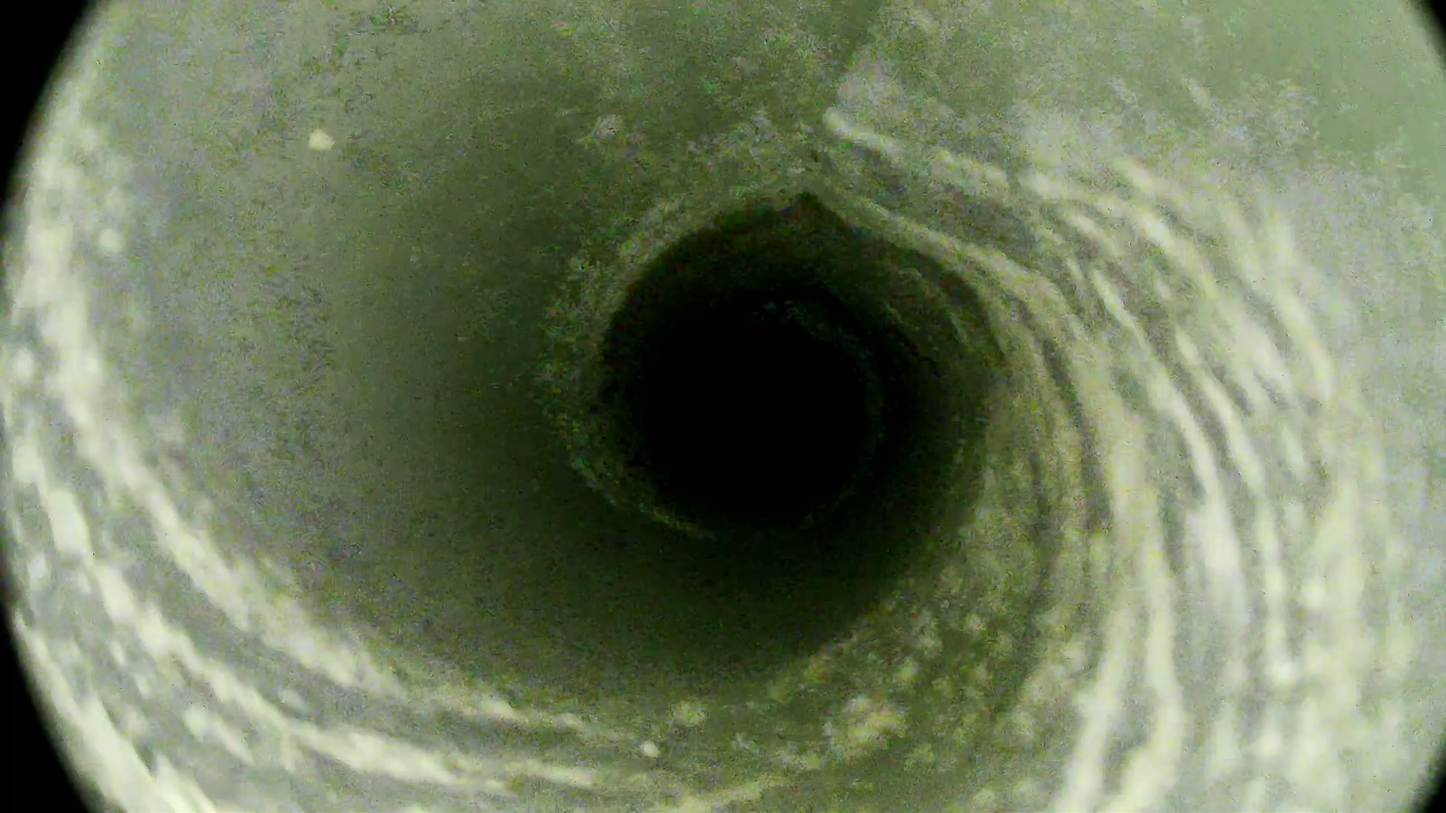hole: (664, 320, 865, 515)
